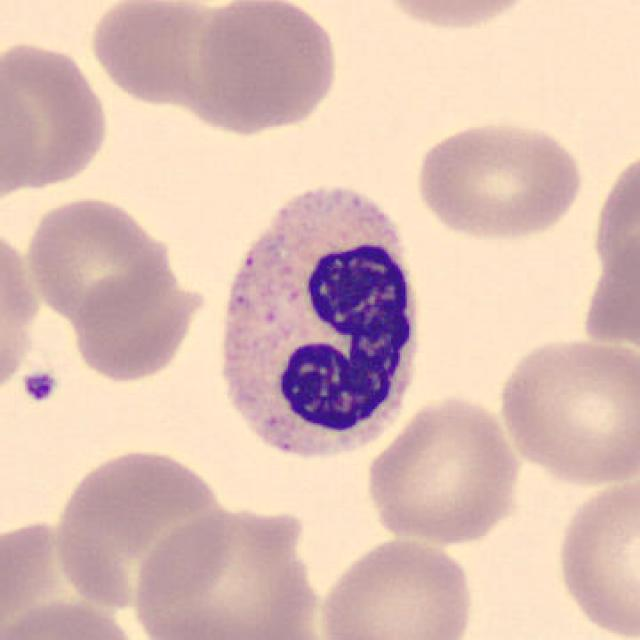Neutrophil: (204, 169, 434, 480)
Platelets: (18, 366, 60, 406)
RBC: (48, 442, 233, 616), (128, 499, 325, 640), (362, 392, 524, 546), (407, 115, 589, 243), (494, 332, 638, 488), (21, 192, 178, 326), (189, 2, 343, 138), (0, 35, 114, 196), (85, 2, 251, 111), (313, 532, 478, 640), (66, 263, 210, 384), (0, 503, 133, 630), (551, 472, 638, 640), (578, 221, 640, 358), (0, 215, 43, 400), (0, 594, 153, 640), (368, 0, 547, 35), (593, 156, 640, 288)
